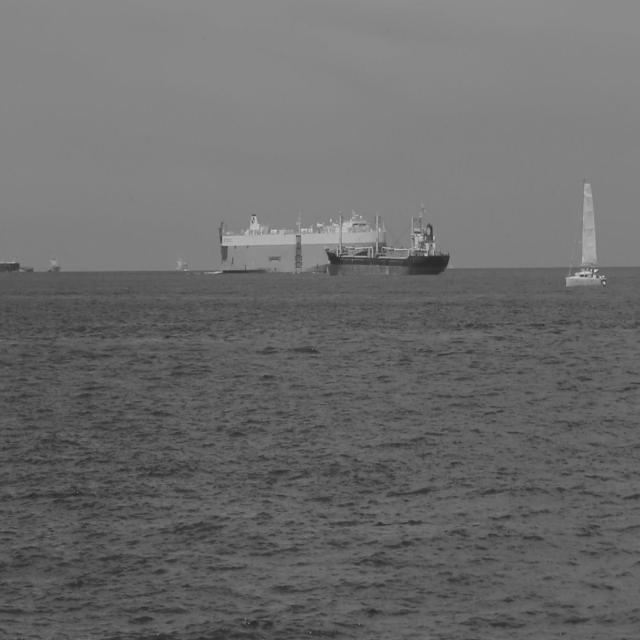ship: (216, 208, 386, 276), (322, 200, 452, 278), (564, 178, 607, 288), (0, 256, 20, 274), (46, 252, 60, 274), (16, 263, 34, 274)
